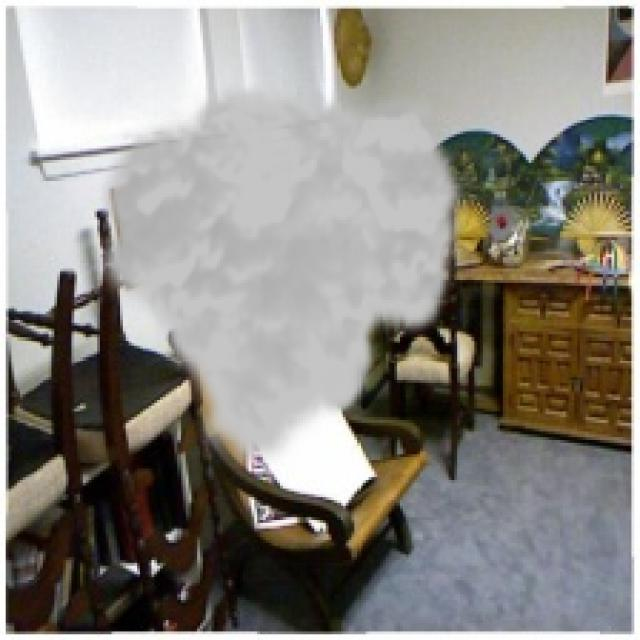smoke: (89, 80, 468, 471)
